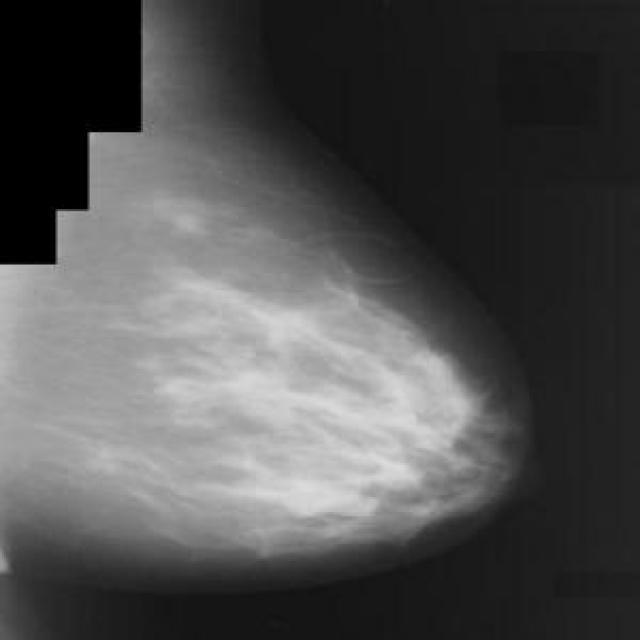tumor: (206, 277, 479, 525)
